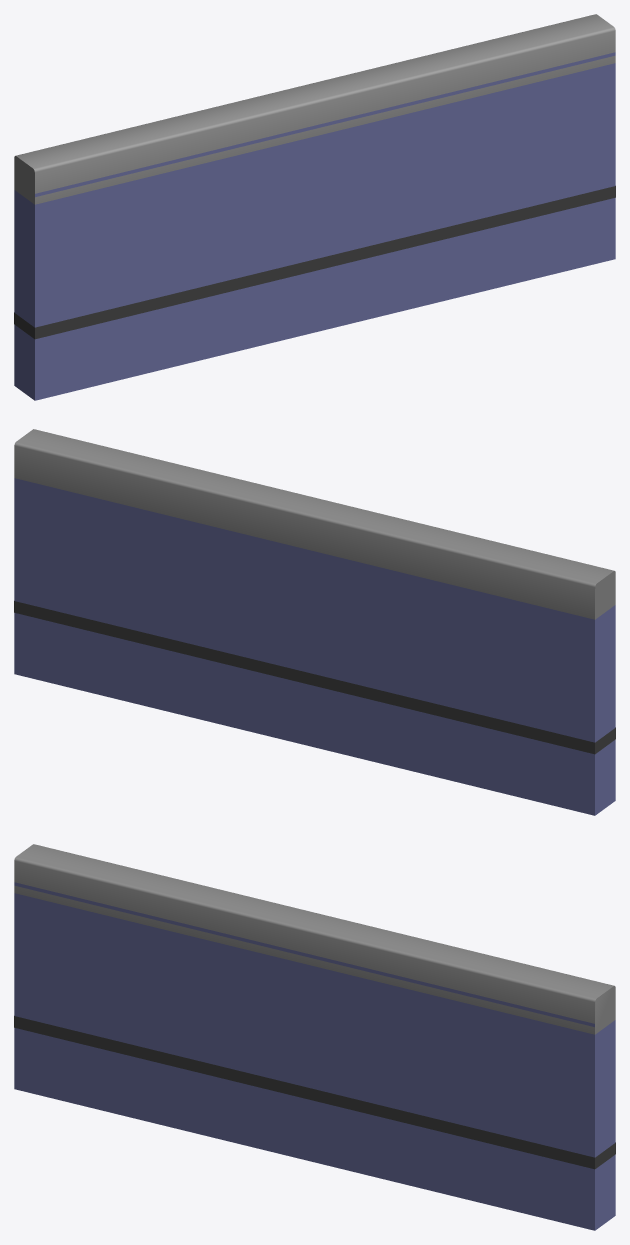
File: W_M_maze_4_Wall_L1.fbx
The picture shows the model from 3 angles, top to bottom: view 1: azimuth 30°, elevation 25°; view 2: azimuth 150°, elevation 25°; view 3: azimuth 330°, elevation 25°; orthographic projection.
Parts seen in each view (by area): view 1: W_M_maze_4_Wall_L1; view 2: W_M_maze_4_Wall_L1; view 3: W_M_maze_4_Wall_L1.
Boxes of the visible parts, x1,y1,x2,y2 form: W_M_maze_4_Wall_L1: (14,14,615,400); W_M_maze_4_Wall_L1: (14,429,615,815); W_M_maze_4_Wall_L1: (14,844,615,1230).
Size of the model in its own units: 4 by 1.52 by 0.249.
